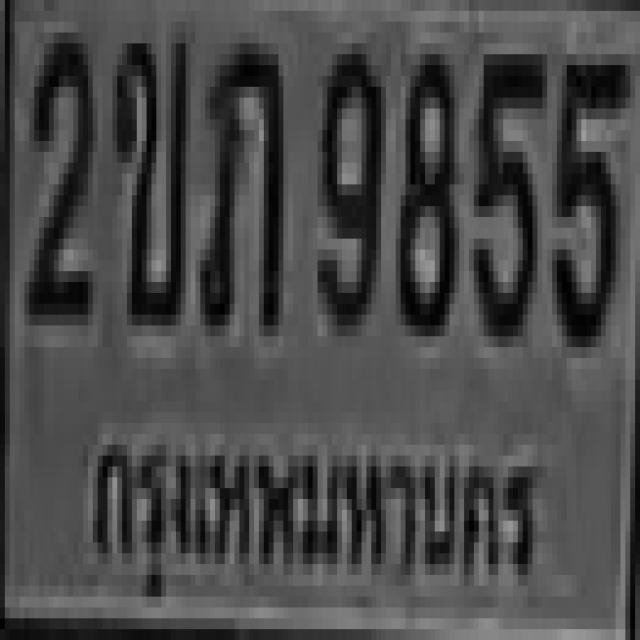11KhorKhai: (108, 22, 186, 314)
2: (24, 22, 88, 314)
41PhorSamPhao: (198, 32, 281, 326)
5: (550, 44, 628, 336), (469, 44, 542, 336)
8: (393, 44, 452, 326)
9: (313, 44, 381, 326)
Bangkok: (87, 419, 546, 629)
